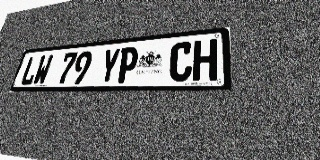7: (55, 52, 78, 85)
9: (70, 51, 93, 84)
C: (168, 41, 193, 82)
H: (192, 39, 217, 81)
L: (19, 55, 41, 85)
P: (115, 46, 140, 83)
W: (32, 54, 54, 85)
Y: (97, 48, 121, 83)
